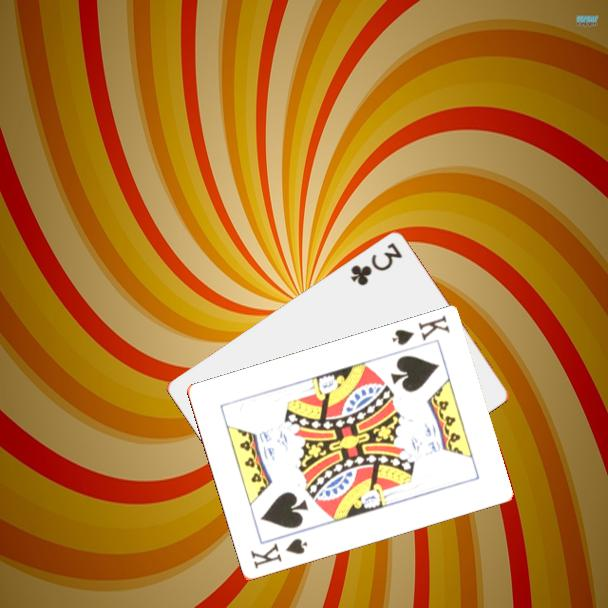c03: (347, 239, 405, 289)
s13: (247, 535, 310, 572), (389, 312, 452, 349)
